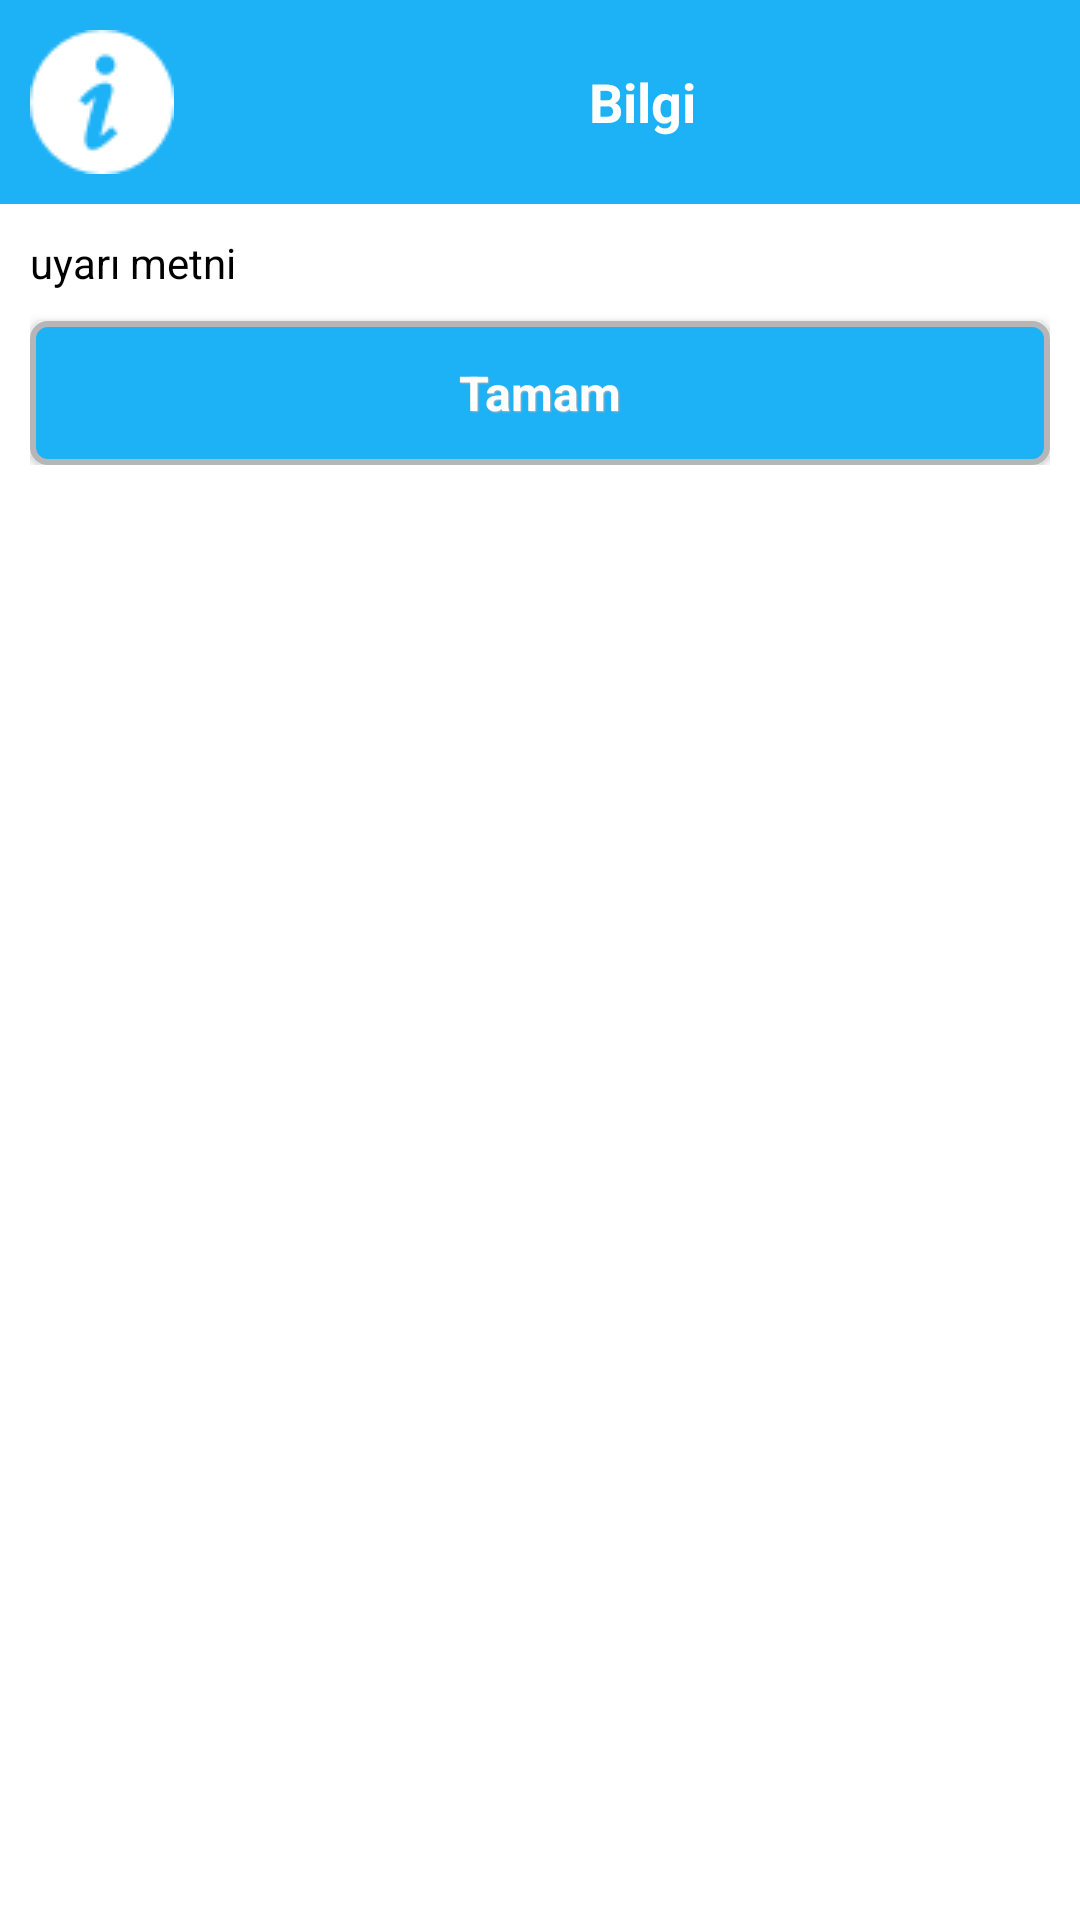

Where to tap for icons on this 1080x1920 app screen, as (x,y):
info: (102,102)
